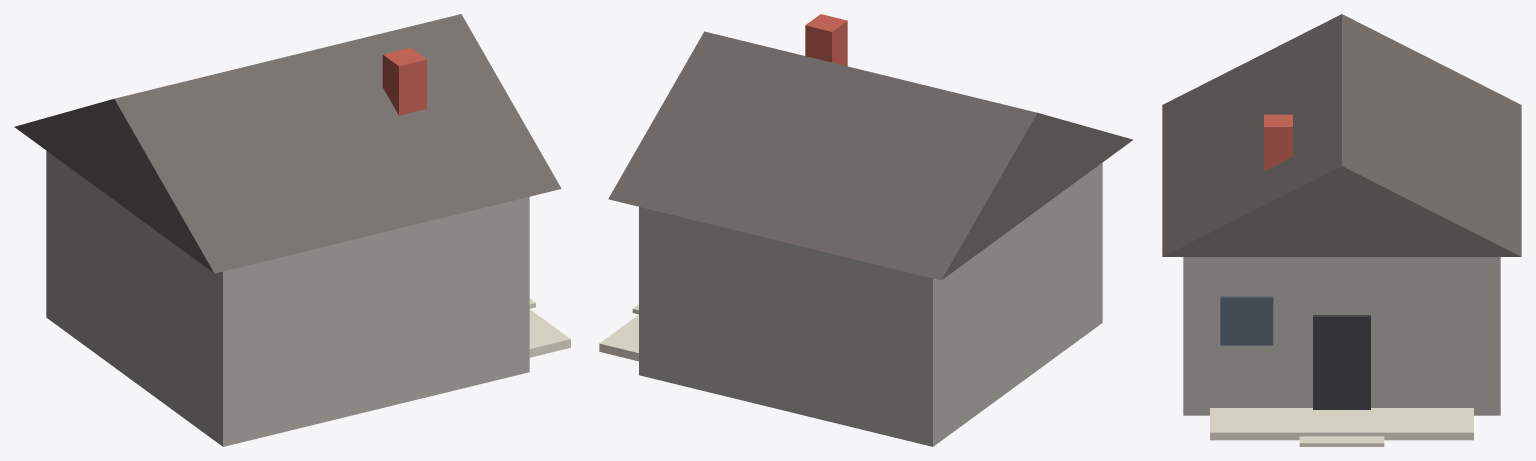
File: house-b.glb
3 views of the same model, side by side, from view 1: azimuth 30°, elevation 25°; view 2: azimuth 150°, elevation 25°; view 3: azimuth 270°, elevation 25° (orthographic). The views are drawn at different scales.
Visible parts, largest first — view 1: house-b; view 2: house-b; view 3: house-b.
Boxes of the visible parts, x1=… form: house-b: x1=14, y1=14, x2=570, y2=446; house-b: x1=599, y1=14, x2=1133, y2=446; house-b: x1=1162, y1=14, x2=1521, y2=446.
Bounding box in the file's own units: 7.8 × 5.5 × 6.8.
